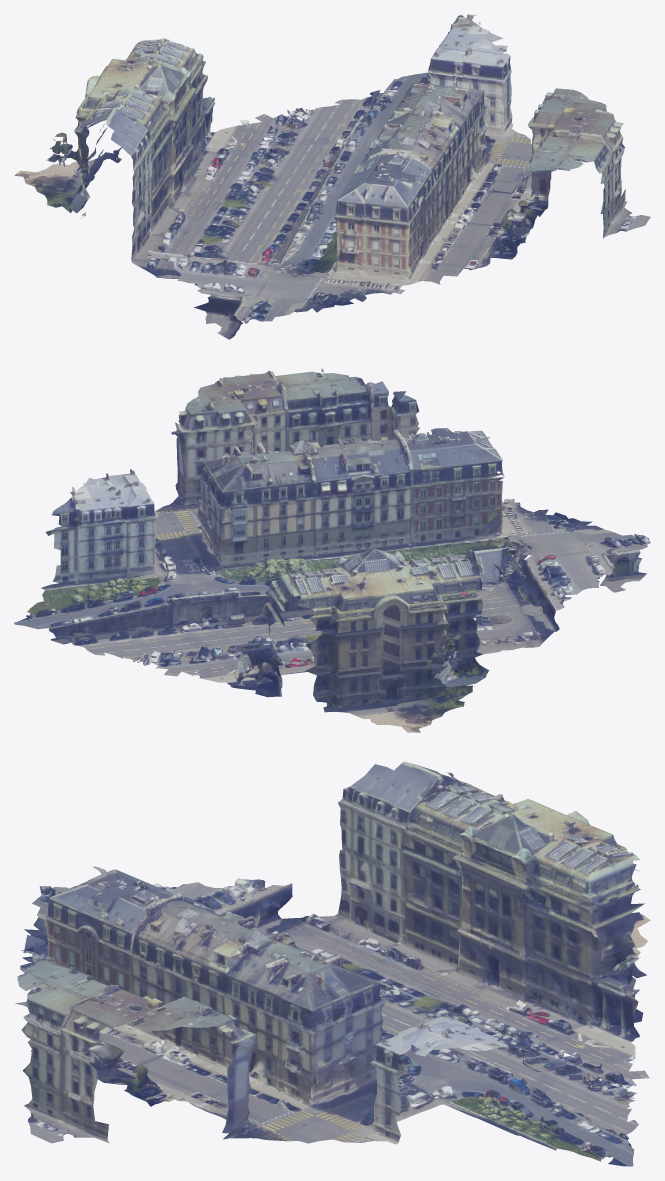
The picture shows the model from 3 angles, top to bottom: view 1: azimuth 30°, elevation 25°; view 2: azimuth 150°, elevation 25°; view 3: azimuth 270°, elevation 25°; orthographic projection. The views are drawn at different scales.
Size of the model in its own units: 106 by 31.05 by 107.
1 material, 1 textured.
